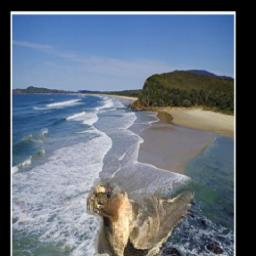Swallow: (87, 178, 195, 256)
